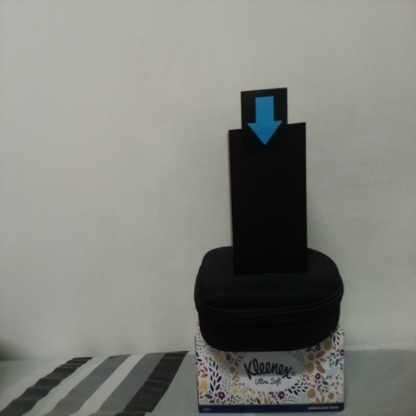id_2: (241, 91, 288, 152)
